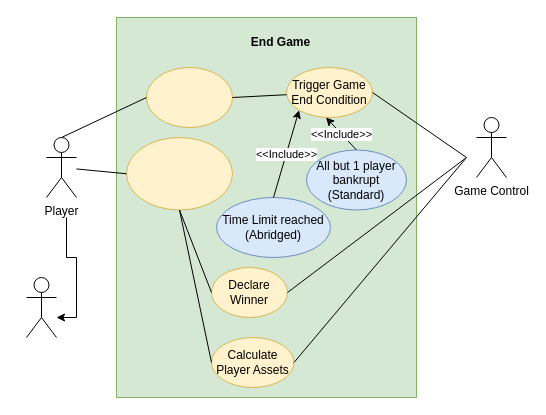
The diagram is 546 pixels wide and 415 high, and some of its shapes have lost their labels. The shapes that lost their labels are listed below. From the top down, each one's centre as x and y in pixels, then its label:
point (189, 97): One player remains on the board
point (179, 173): Have the highest value of deposit and asset
point (41, 307): AI Player
